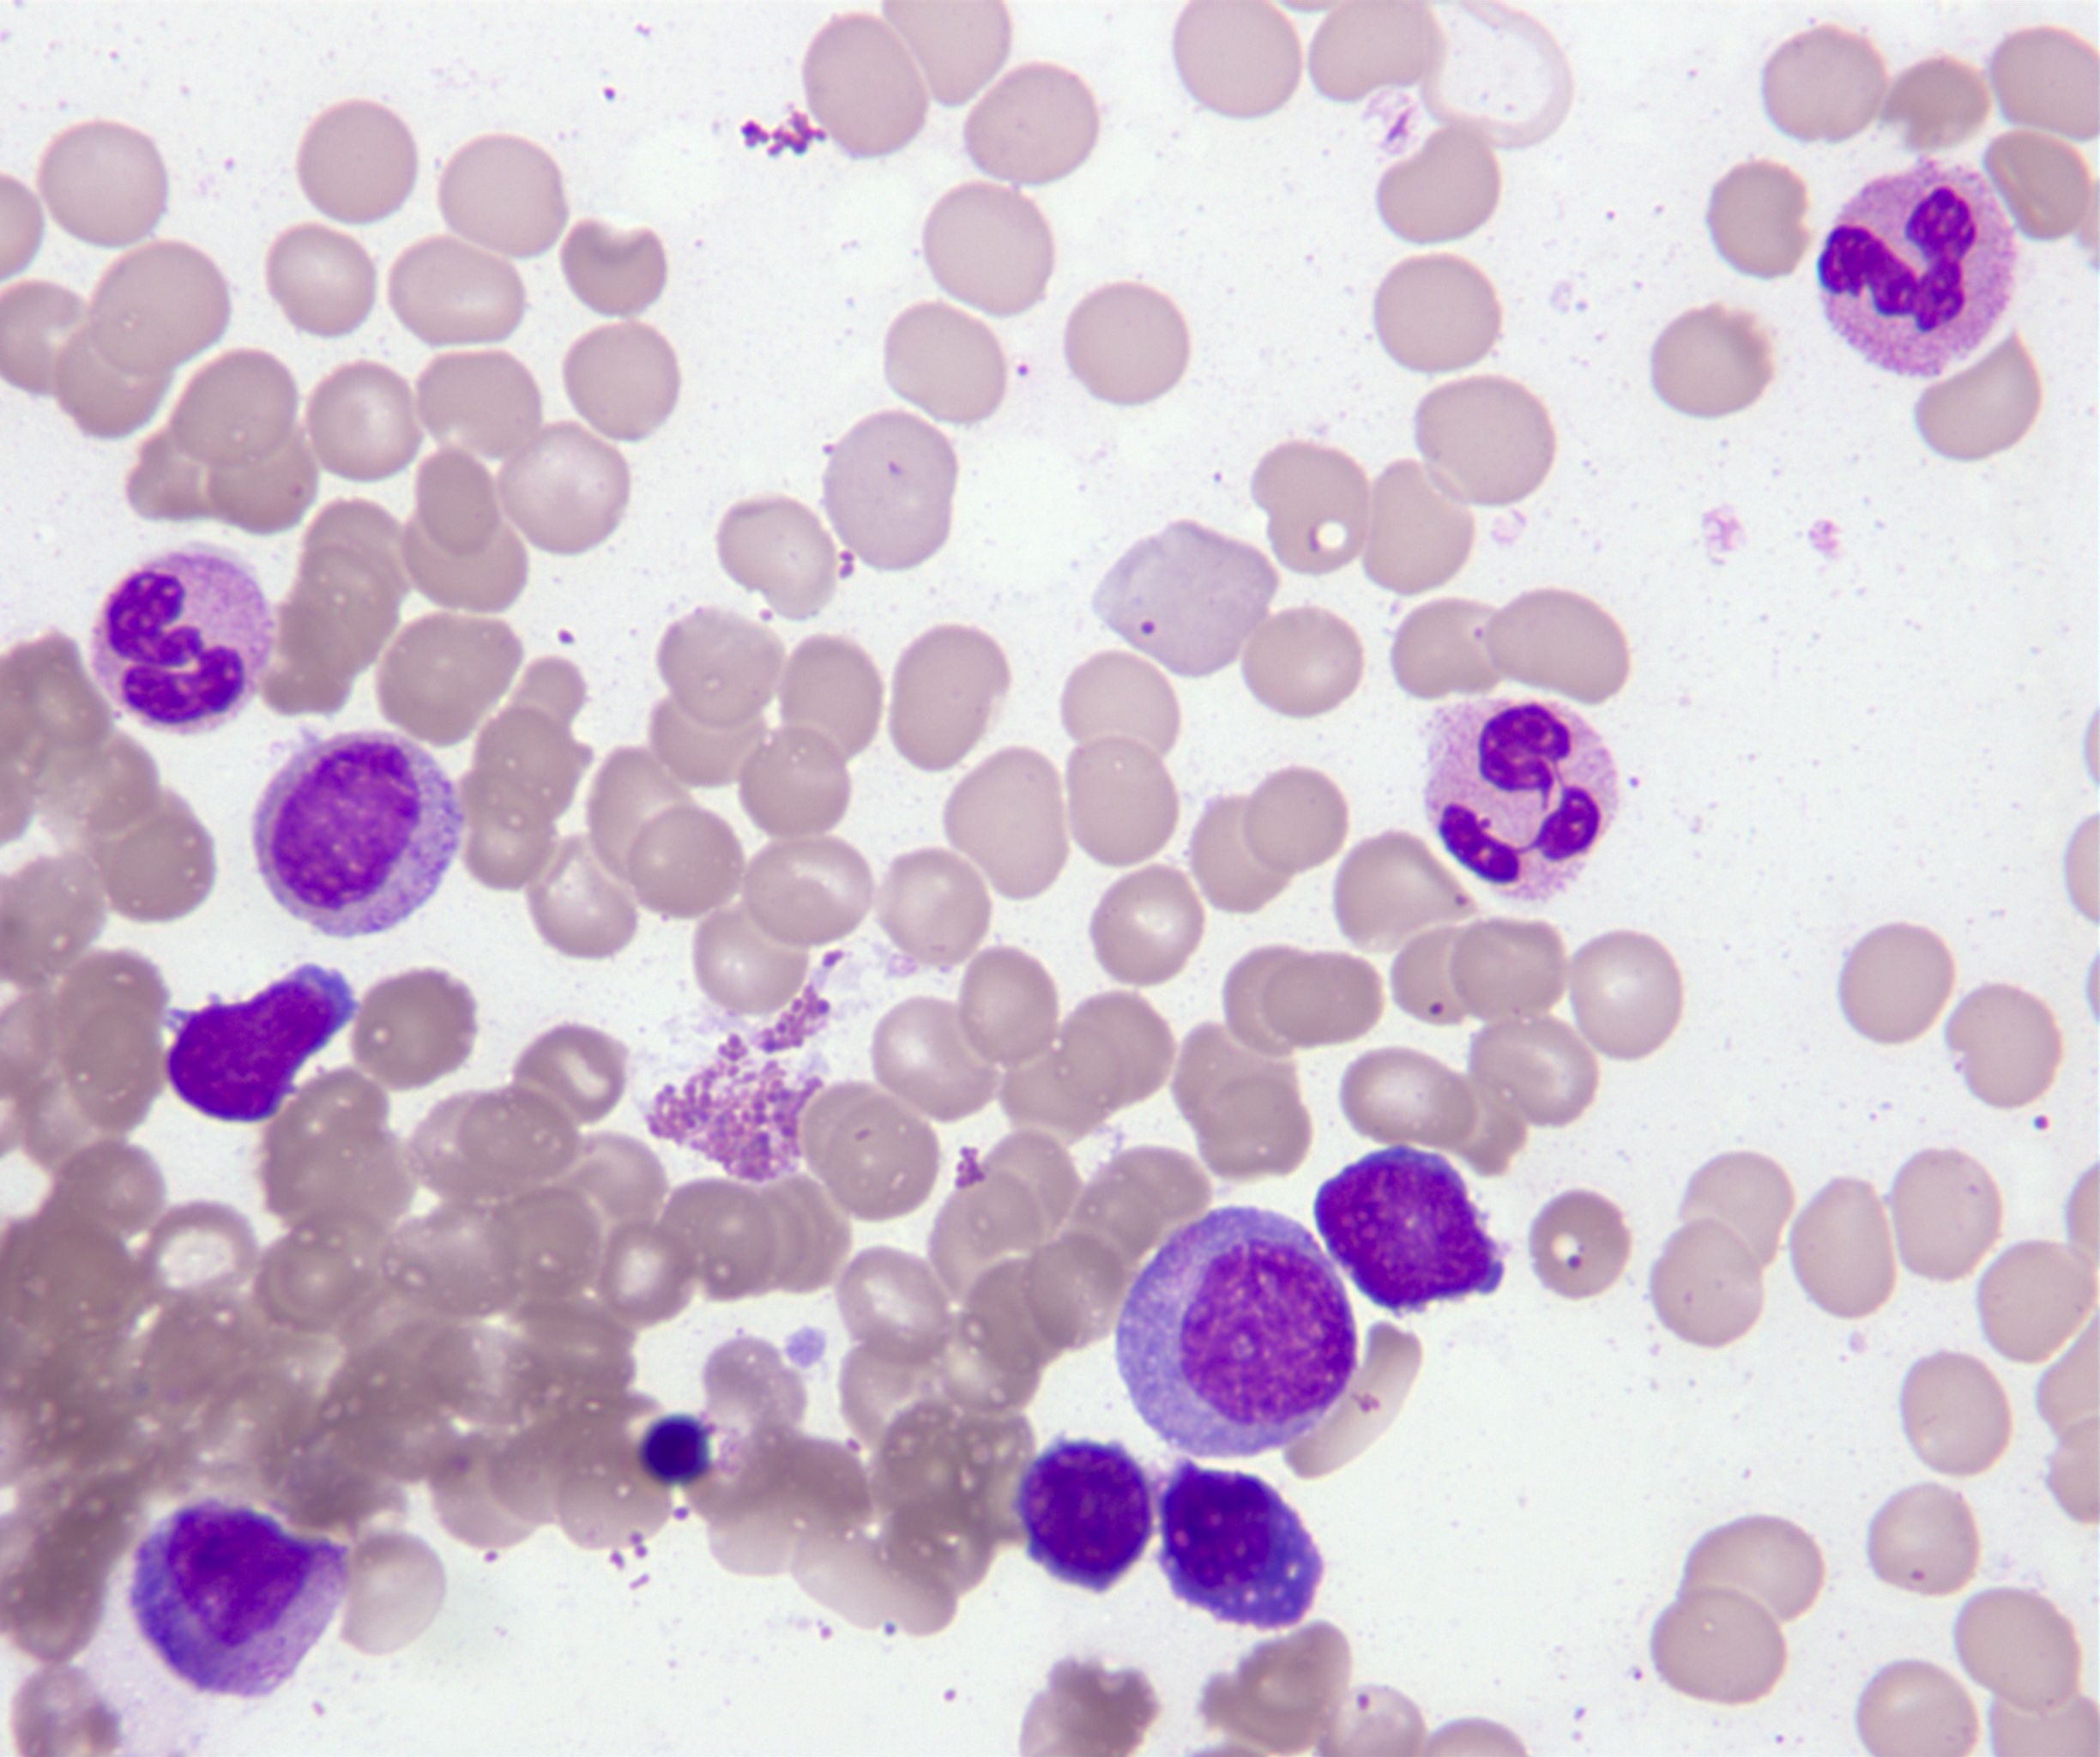3: (1116, 1207, 1357, 1455), (131, 1495, 351, 1699), (253, 731, 462, 935)
32: (1313, 1146, 1505, 1319), (166, 965, 359, 1120), (1013, 1431, 1153, 1595)
52: (1155, 1459, 1322, 1630)
6: (1423, 698, 1615, 904), (89, 551, 270, 733)
x: (1817, 154, 2015, 377)
